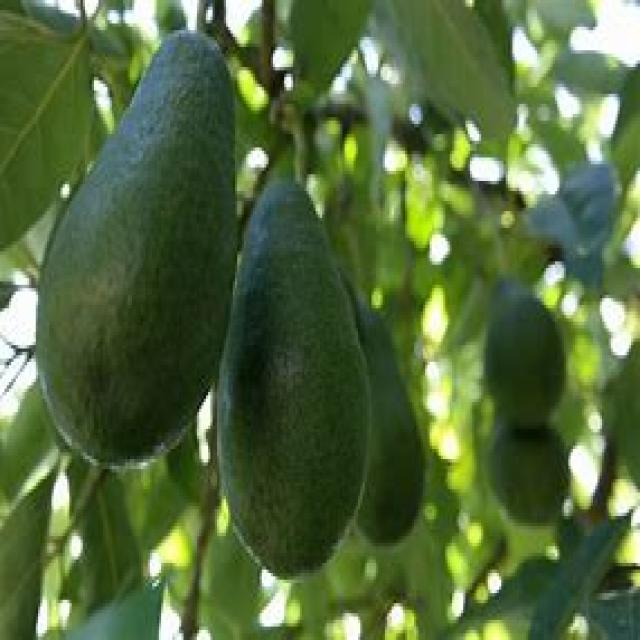Avocado: (31, 24, 234, 479), (223, 186, 369, 585), (480, 258, 585, 442), (362, 307, 426, 533), (471, 433, 587, 531)
